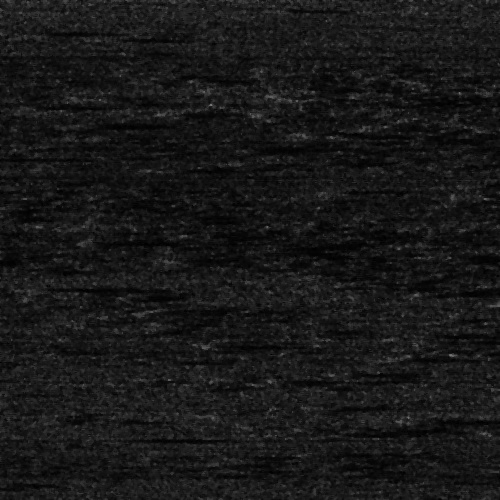object: (0, 282, 63, 289), (369, 353, 432, 358)
shadow: (26, 282, 133, 289), (401, 353, 500, 358), (0, 155, 44, 160)
